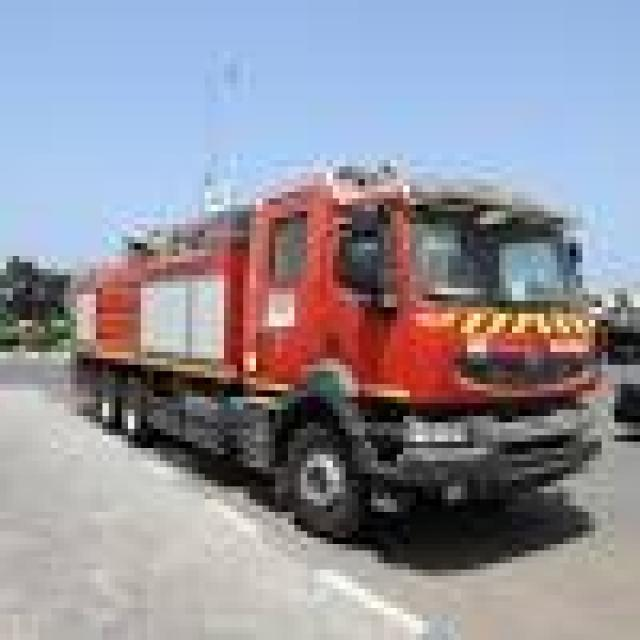emergency: (64, 157, 640, 538)
